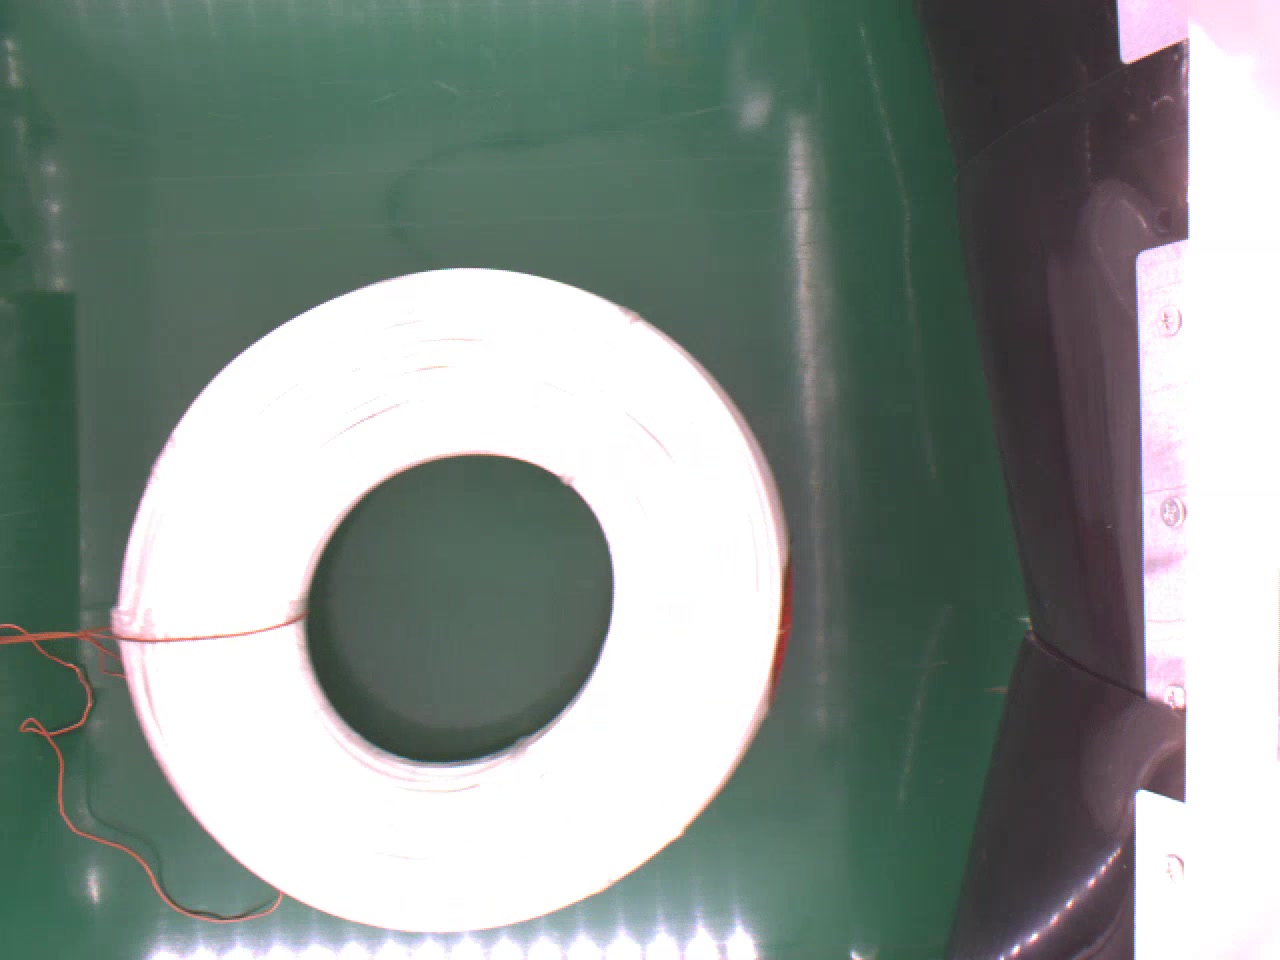white: (111, 263, 789, 935)
